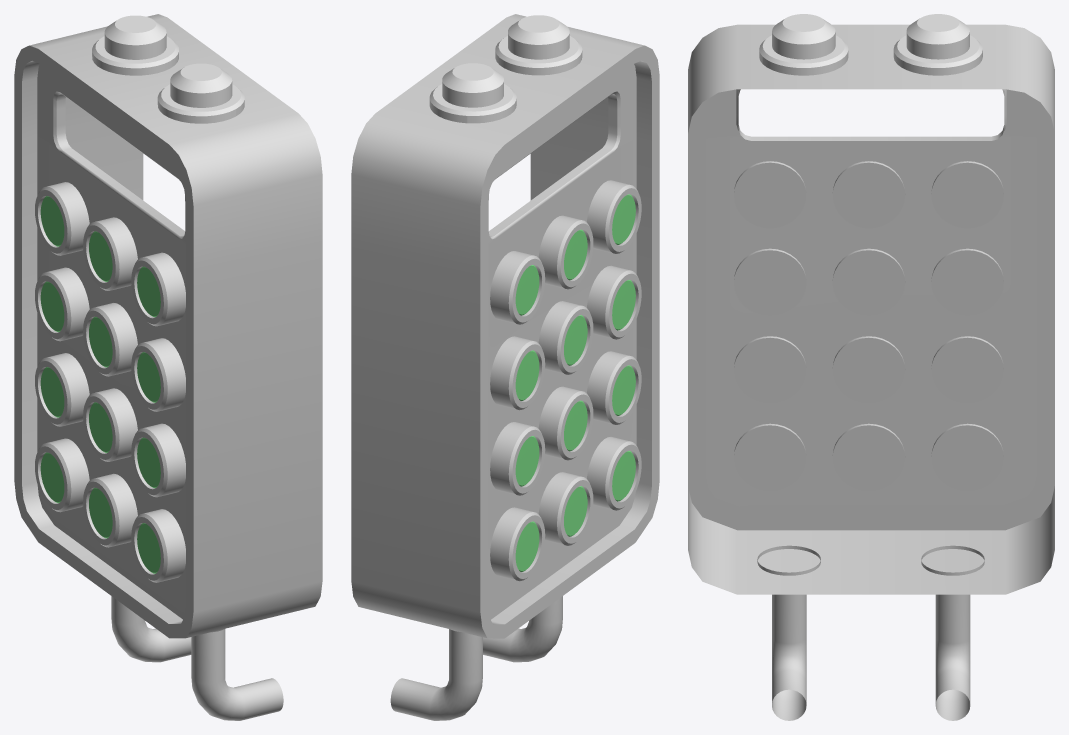
The model's file is KeyPadBee.fbx.
The picture shows the model from 3 angles, left to right: view 1: azimuth 30°, elevation 25°; view 2: azimuth 150°, elevation 25°; view 3: azimuth 270°, elevation 25°; orthographic projection. The views are drawn at different scales.
Visible parts, largest first — view 1: KeyPadBody_LOD0, RedLightBulb_LOD0, GreenLightBulb_LOD0, GreenLightBase_LOD0, RedLightBase_LOD0, 0_LOD0.008, 0_LOD0.002, 0_LOD0.005, 0_LOD0.011, 0_LOD0.003, 0_LOD0.009, 0_LOD0.010 (+5 smaller); view 2: KeyPadBody_LOD0, GreenLightBulb_LOD0, RedLightBulb_LOD0, GreenLightBase_LOD0, RedLightBase_LOD0, 0_LOD0.002, 0_LOD0.008, 0_LOD0.005, 0_LOD0.011, 0_LOD0.003, 0_LOD0.009, 0_LOD0.001 (+5 smaller); view 3: KeyPadBody_LOD0, GreenLightBulb_LOD0, RedLightBulb_LOD0, GreenLightBase_LOD0, RedLightBase_LOD0.
Part boxes in pixels (left/top/right/bottom): KeyPadBody_LOD0: left=14, top=14, right=322, bottom=720; RedLightBulb_LOD0: left=104, top=15, right=166, bottom=59; GreenLightBulb_LOD0: left=170, top=63, right=232, bottom=107; GreenLightBase_LOD0: left=157, top=84, right=244, bottom=123; RedLightBase_LOD0: left=92, top=36, right=178, bottom=75; 0_LOD0.008: left=40, top=281, right=64, bottom=332; 0_LOD0.002: left=40, top=452, right=64, bottom=503; 0_LOD0.005: left=40, top=367, right=64, bottom=417; 0_LOD0.011: left=40, top=196, right=64, bottom=246; 0_LOD0.003: left=137, top=437, right=160, bottom=488; 0_LOD0.009: left=137, top=266, right=160, bottom=317; 0_LOD0.010: left=89, top=231, right=112, bottom=281; KeyPadBody_LOD0: left=351, top=14, right=659, bottom=720; GreenLightBulb_LOD0: left=508, top=15, right=569, bottom=59; RedLightBulb_LOD0: left=442, top=63, right=503, bottom=107; GreenLightBase_LOD0: left=495, top=36, right=582, bottom=75; RedLightBase_LOD0: left=429, top=84, right=516, bottom=123; 0_LOD0.002: left=515, top=521, right=539, bottom=571; 0_LOD0.008: left=515, top=350, right=539, bottom=400; 0_LOD0.005: left=515, top=436, right=539, bottom=486; 0_LOD0.011: left=515, top=265, right=539, bottom=315; 0_LOD0.003: left=612, top=365, right=635, bottom=415; 0_LOD0.009: left=612, top=194, right=635, bottom=244; 0_LOD0.001: left=612, top=450, right=635, bottom=501; KeyPadBody_LOD0: left=688, top=24, right=1054, bottom=720; GreenLightBulb_LOD0: left=772, top=14, right=835, bottom=59; RedLightBulb_LOD0: left=906, top=14, right=969, bottom=59; GreenLightBase_LOD0: left=759, top=35, right=848, bottom=75; RedLightBase_LOD0: left=893, top=35, right=982, bottom=75.
Bounding box in the file's own units: 5.5 × 24.87 × 12.44.
